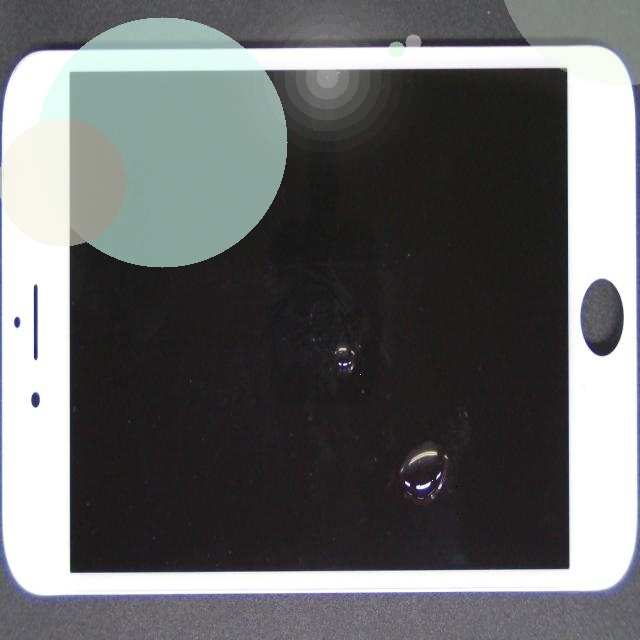oil: (236, 206, 627, 640), (194, 169, 539, 515)
